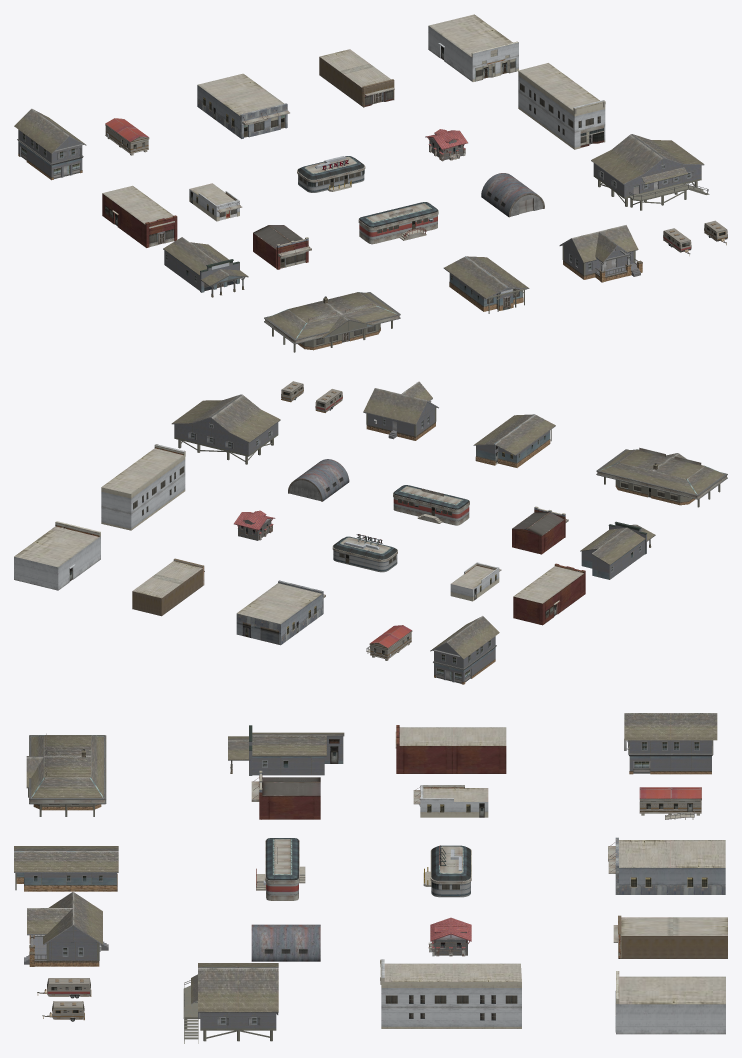
File: rural_set.glb
3 renders of one model, top to bottom at view 1: azimuth 30°, elevation 25°; view 2: azimuth 150°, elevation 25°; view 3: azimuth 270°, elevation 25°, orthographic. The views are drawn at different scales.
Parts seen in each view (by area): view 1: Rural_WoodenBuilding_1, Rural_WoodenBuilding_4_Rural_Housetrim_1_0, Rural_StoreSmall_4_Rural_Midcity_Walls_FLR_1_0, Rural_StoreSmall_6_Rural_Facade_FLR_2_0, Rural_StoreSmall_4_Rural_Facade_FLR_2_0, Rural_StoreSmall_8_Rural_Facade_FLR_2_0, Rural_WoodenBuilding_2_Rural_Housetrim_1_0, Rural_WoodenBuilding_3_Rural_Housetrim_1_0, Rural_WoodenBuilding_5_Rural_Housetrim_1_0, Rural_Diner_1_Rural_Facade_FLR_2_0, Rural_StoreSmall_8_Rural_Midcity_Walls_FLR_1_0, Rural_StoreSmall_2_Material #0_0 (+19 smaller); view 2: Rural_WoodenBuilding_1, Rural_WoodenBuilding_4_Rural_Housetrim_1_0, Rural_StoreSmall_4_Rural_Midcity_Walls_FLR_1_0, Rural_WoodenBuilding_2_Rural_Housetrim_1_0, Rural_WoodenBuilding_3_Rural_Housetrim_1_0, Rural_StoreSmall_8_Rural_Facade_FLR_2_0, Rural_WoodenBuilding_5_Rural_Housetrim_1_0, Rural_StoreSmall_8_Rural_Midcity_Walls_FLR_1_0, Rural_StoreSmall_6_Rural_Midcity_Facade_FLR_2_0, Rural_StoreSmall_6_Rural_Facade_FLR_2_0, Rural_StoreSmall_4_Rural_Facade_FLR_2_0, Rural_StoreSmall_1_Rural_Brownstone_Facade_Flr_6_0 (+19 smaller); view 3: Rural_WoodenBuilding_1, Rural_StoreSmall_4_Rural_Midcity_Walls_FLR_1_0, Rural_WoodenBuilding_4_Rural_Housetrim_1_0, Rural_WoodenBuilding_5_Rural_Housetrim_1_0, Rural_WoodenBuilding_3_Rural_Housetrim_1_0, Rural_StoreSmall_6_Rural_Facade_FLR_2_0, Rural_StoreSmall_4_Rural_Facade_FLR_2_0, Rural_StoreSmall_8_Rural_Midcity_Walls_FLR_1_0, Rural_WoodenBuilding_2_Rural_Housetrim_1_0, Rural_StoreSmall_8_Rural_Facade_FLR_2_0, Rural_StoreSmall_5_Rural_Brownstone_Facade_Flr_6_0, Rural_StoreSmall_6_Rural_Midcity_Facade_FLR_2_0 (+18 smaller).
Boxes of the visible parts, left/top/right/bottom form: Rural_WoodenBuilding_1: left=591, top=134, right=709, bottom=210; Rural_WoodenBuilding_4_Rural_Housetrim_1_0: left=264, top=292, right=400, bottom=350; Rural_StoreSmall_4_Rural_Midcity_Walls_FLR_1_0: left=518, top=71, right=605, bottom=149; Rural_StoreSmall_6_Rural_Facade_FLR_2_0: left=197, top=73, right=289, bottom=137; Rural_StoreSmall_4_Rural_Facade_FLR_2_0: left=518, top=63, right=605, bottom=147; Rural_StoreSmall_8_Rural_Facade_FLR_2_0: left=429, top=14, right=518, bottom=81; Rural_WoodenBuilding_2_Rural_Housetrim_1_0: left=559, top=225, right=642, bottom=282; Rural_WoodenBuilding_3_Rural_Housetrim_1_0: left=443, top=256, right=529, bottom=311; Rural_WoodenBuilding_5_Rural_Housetrim_1_0: left=14, top=108, right=86, bottom=180; Rural_Diner_1_Rural_Facade_FLR_2_0: left=358, top=202, right=438, bottom=244; Rural_StoreSmall_8_Rural_Midcity_Walls_FLR_1_0: left=428, top=26, right=518, bottom=81; Rural_StoreSmall_2_Material #0_0: left=163, top=237, right=248, bottom=297; Rural_WoodenBuilding_1: left=171, top=394, right=280, bottom=464; Rural_WoodenBuilding_4_Rural_Housetrim_1_0: left=596, top=449, right=727, bottom=505; Rural_StoreSmall_4_Rural_Midcity_Walls_FLR_1_0: left=101, top=444, right=185, bottom=530; Rural_WoodenBuilding_2_Rural_Housetrim_1_0: left=363, top=381, right=438, bottom=440; Rural_WoodenBuilding_3_Rural_Housetrim_1_0: left=473, top=414, right=555, bottom=467; Rural_StoreSmall_8_Rural_Facade_FLR_2_0: left=14, top=521, right=100, bottom=581; Rural_WoodenBuilding_5_Rural_Housetrim_1_0: left=430, top=616, right=499, bottom=684; Rural_StoreSmall_8_Rural_Midcity_Walls_FLR_1_0: left=14, top=532, right=100, bottom=590; Rural_StoreSmall_6_Rural_Midcity_Facade_FLR_2_0: left=236, top=580, right=323, bottom=645; Rural_StoreSmall_6_Rural_Facade_FLR_2_0: left=237, top=583, right=325, bottom=634; Rural_StoreSmall_4_Rural_Facade_FLR_2_0: left=101, top=444, right=185, bottom=515; Rural_StoreSmall_1_Rural_Brownstone_Facade_Flr_6_0: left=512, top=507, right=565, bottom=554; Rural_WoodenBuilding_1: left=183, top=963, right=278, bottom=1043; Rural_StoreSmall_4_Rural_Midcity_Walls_FLR_1_0: left=381, top=959, right=521, bottom=1028; Rural_WoodenBuilding_4_Rural_Housetrim_1_0: left=26, top=735, right=106, bottom=810; Rural_WoodenBuilding_5_Rural_Housetrim_1_0: left=624, top=713, right=717, bottom=774; Rural_WoodenBuilding_3_Rural_Housetrim_1_0: left=14, top=846, right=118, bottom=891; Rural_StoreSmall_6_Rural_Facade_FLR_2_0: left=608, top=840, right=725, bottom=887; Rural_StoreSmall_4_Rural_Facade_FLR_2_0: left=380, top=959, right=521, bottom=1020; Rural_StoreSmall_8_Rural_Midcity_Walls_FLR_1_0: left=616, top=999, right=725, bottom=1034; Rural_WoodenBuilding_2_Rural_Housetrim_1_0: left=27, top=892, right=102, bottom=966; Rural_StoreSmall_8_Rural_Facade_FLR_2_0: left=615, top=971, right=725, bottom=1032; Rural_StoreSmall_5_Rural_Brownstone_Facade_Flr_6_0: left=396, top=725, right=506, bottom=773; Rural_StoreSmall_6_Rural_Midcity_Facade_FLR_2_0: left=615, top=837, right=725, bottom=894.
Bounding box in the file's own units: 126 × 10.73 × 130.
Materials: 9 (9 with a texture image).
